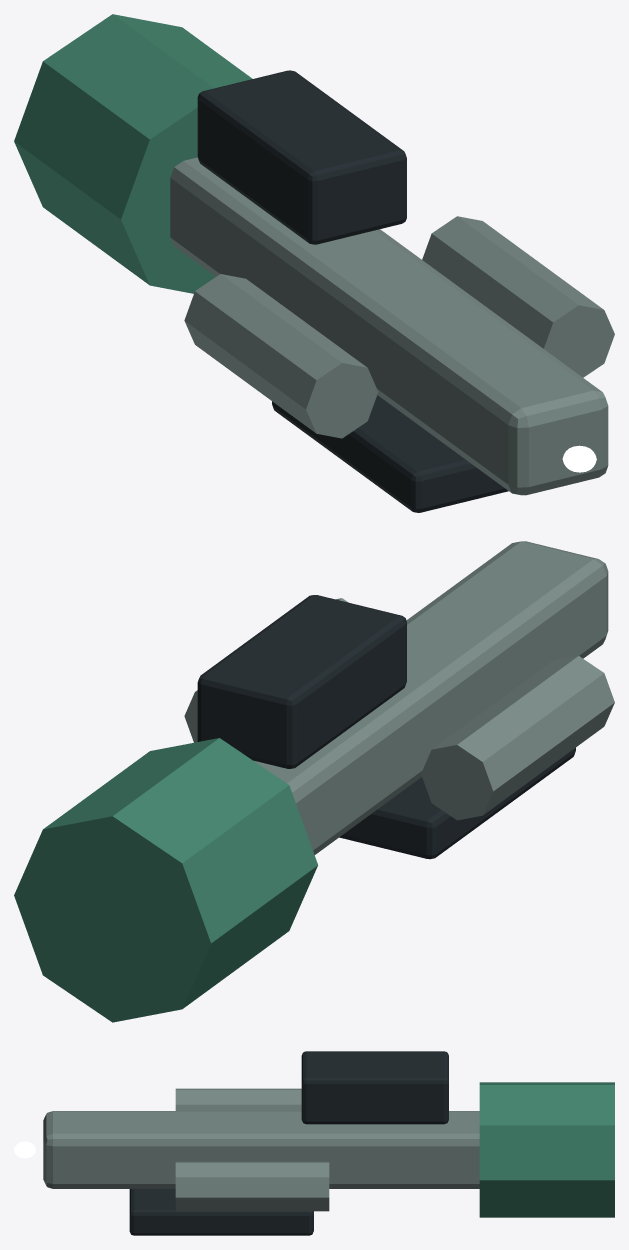
The picture shows the model from 3 angles, top to bottom: view 1: azimuth 30°, elevation 25°; view 2: azimuth 150°, elevation 25°; view 3: azimuth 270°, elevation 25°; orthographic projection. The views are drawn at different scales.
Visible parts, largest first — view 1: RIMWARD_HULL, RIMWARD_ENGINE_GLOW; view 2: RIMWARD_HULL; view 3: RIMWARD_HULL, RIMWARD_ENGINE_GLOW.
Part boxes in pixels (bbox=[...]): RIMWARD_HULL: bbox=[14, 14, 614, 512]; RIMWARD_ENGINE_GLOW: bbox=[562, 445, 596, 472]; RIMWARD_HULL: bbox=[14, 541, 614, 1022]; RIMWARD_HULL: bbox=[43, 1051, 614, 1235]; RIMWARD_ENGINE_GLOW: bbox=[14, 1141, 35, 1158].
Bounding box in the file's own units: 11.73 × 8.65 × 31.3.
